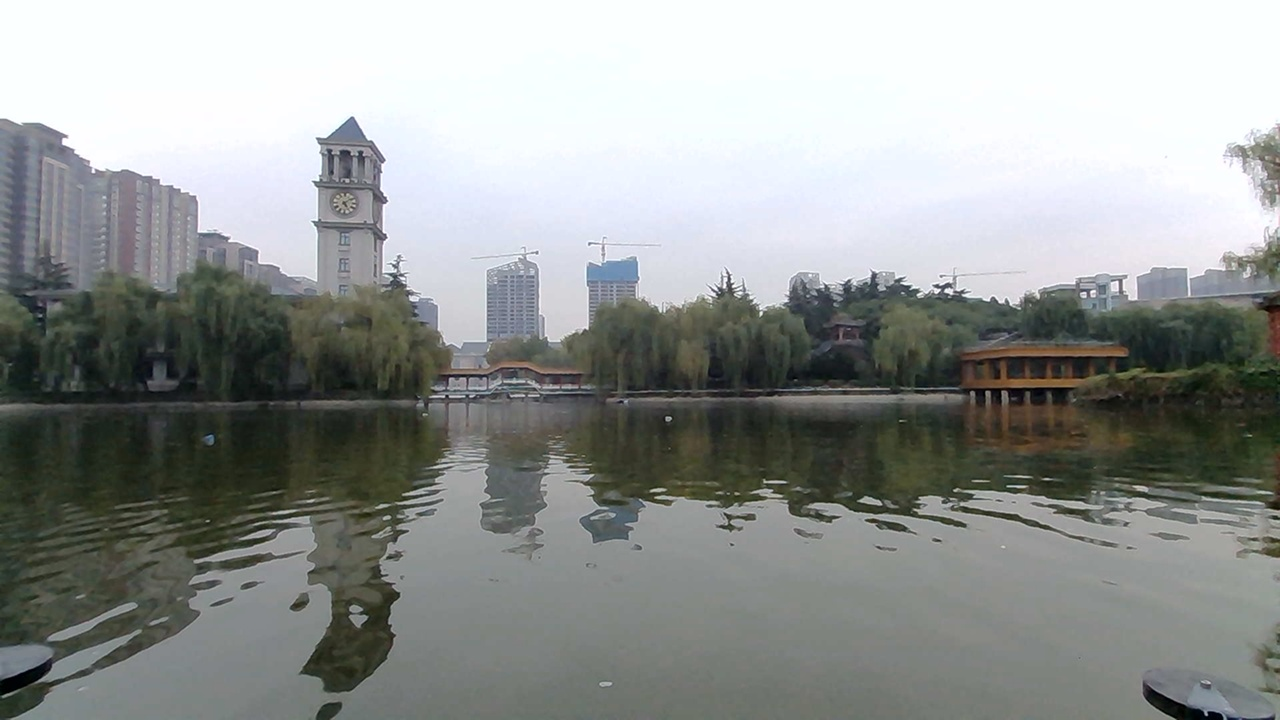bottle: (194, 428, 228, 450), (654, 404, 690, 423)
